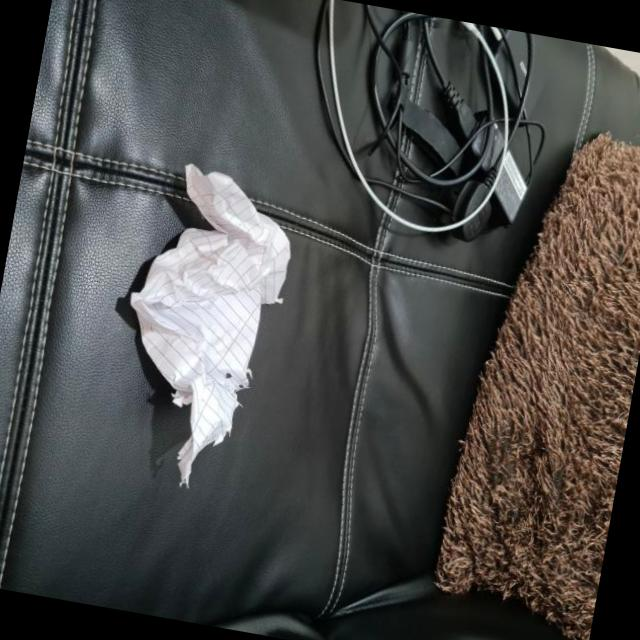cardboard paper: (132, 165, 291, 485)
